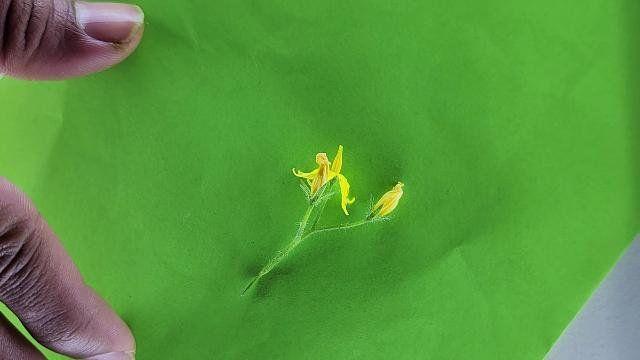Anthesis: (292, 144, 356, 216), (368, 180, 406, 221)
